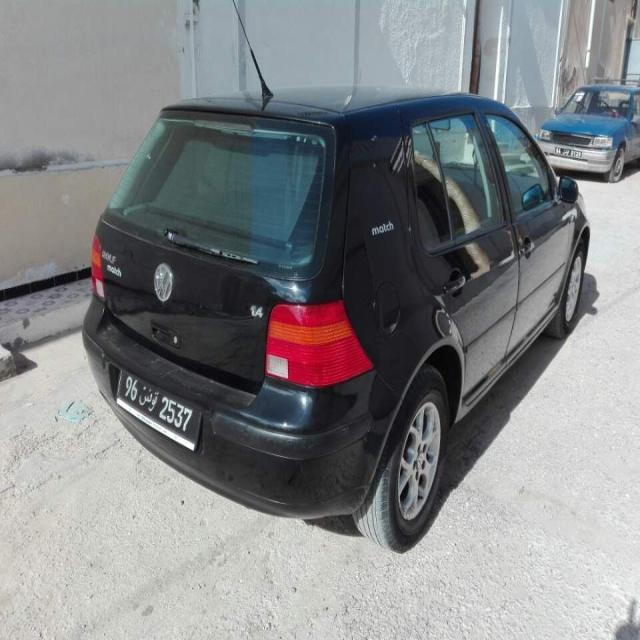LP: (115, 360, 197, 450)
